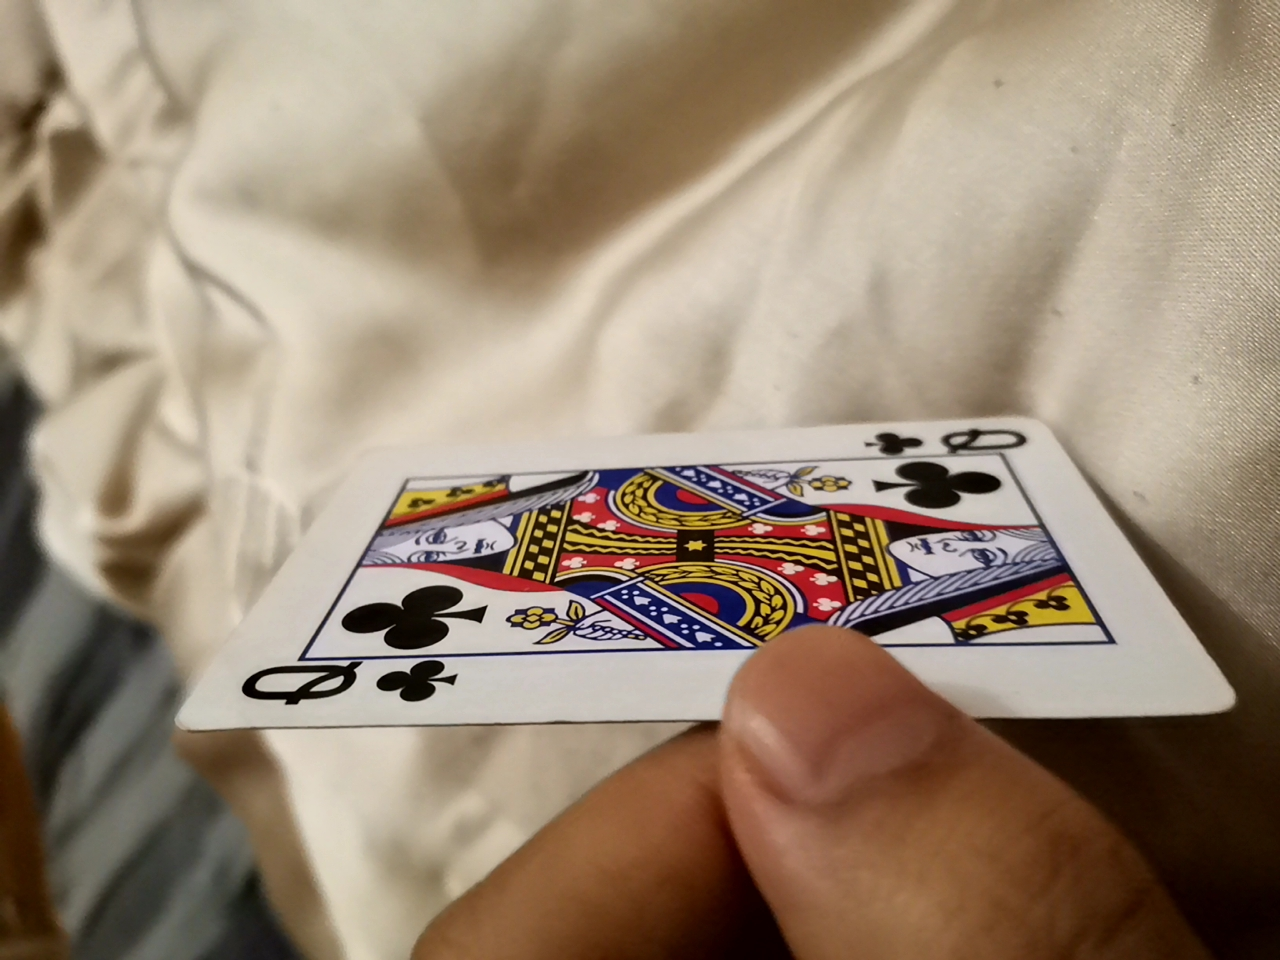mh q: (234, 400, 1229, 742)
